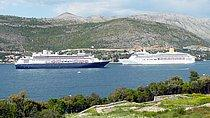Ship: (16, 50, 112, 70), (119, 50, 197, 66)
